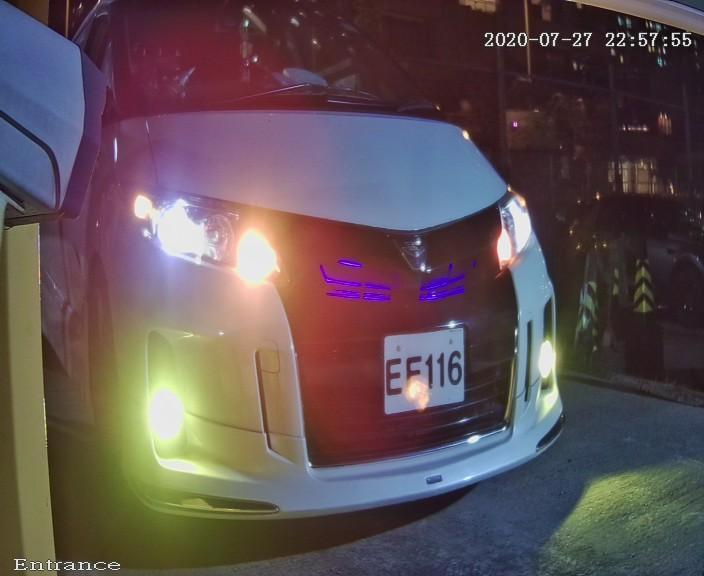privatecar: (45, 3, 582, 576)
